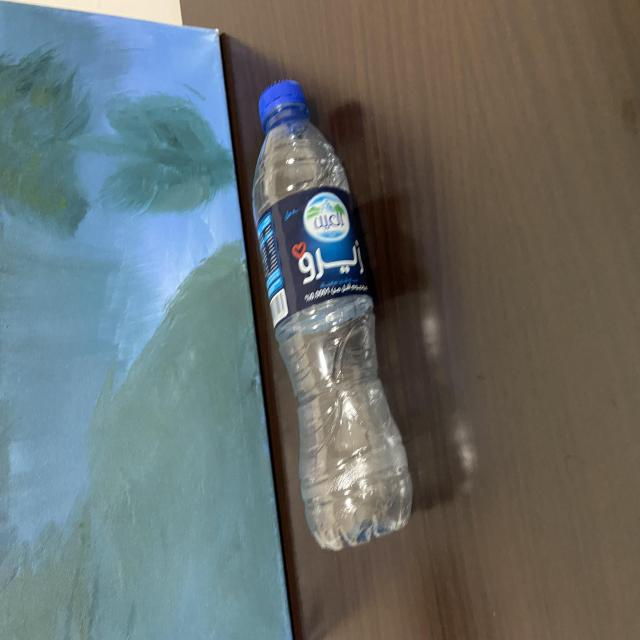bottle: (242, 68, 441, 586)
